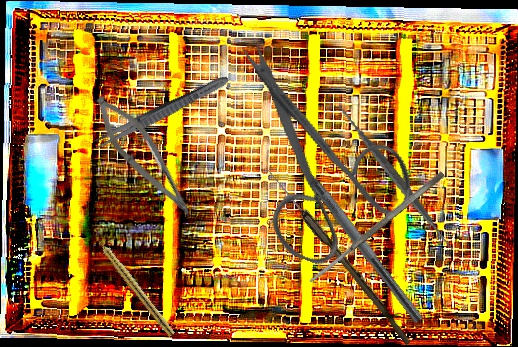Chopper: (280, 136, 436, 324)
Dressing Forceps: (87, 72, 232, 155)
Handpiece: (92, 233, 178, 338)
Iris Scissors: (177, 38, 443, 287)
Micro Scissor: (81, 86, 209, 225)
Spatula Surgical: (311, 94, 480, 262), (307, 170, 446, 285)
Surgical Spoon: (261, 165, 416, 346)
